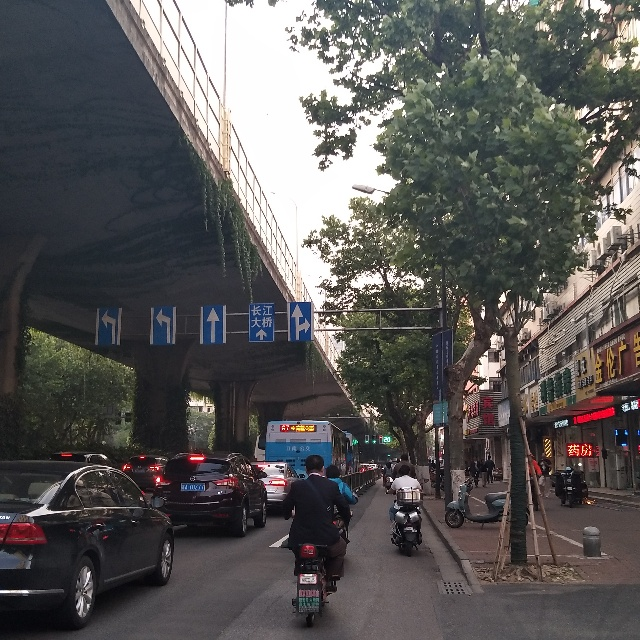left: (94, 305, 121, 346), (149, 305, 176, 346)
straight: (199, 305, 226, 345)
